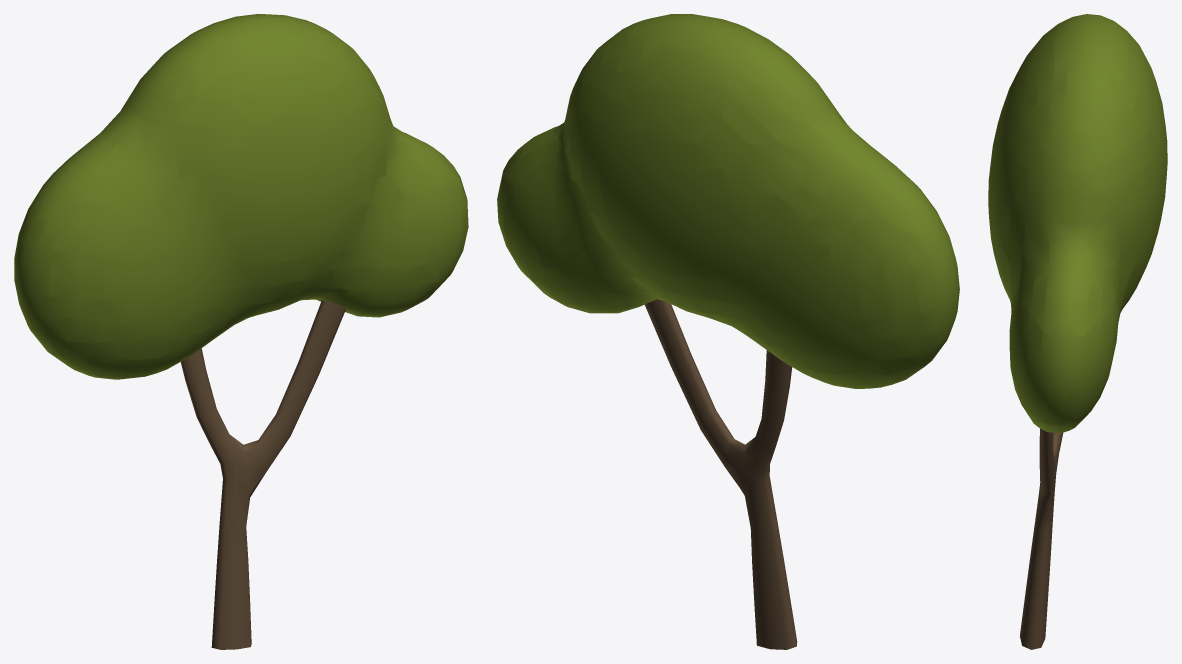
The model's file is outside-tree.glb.
3 renders of one model, left to right at view 1: azimuth 30°, elevation 25°; view 2: azimuth 150°, elevation 25°; view 3: azimuth 270°, elevation 25°, orthographic. The views are drawn at different scales.
Visible parts, largest first — view 1: Tree_3; view 2: Tree_3; view 3: Tree_3.
Part boxes in pixels (x1,y1,x2,y2): Tree_3: (14,14,468,649); Tree_3: (497,14,959,649); Tree_3: (988,14,1167,649).
Bounding box in the file's own units: 9 × 11.82 × 3.05.
